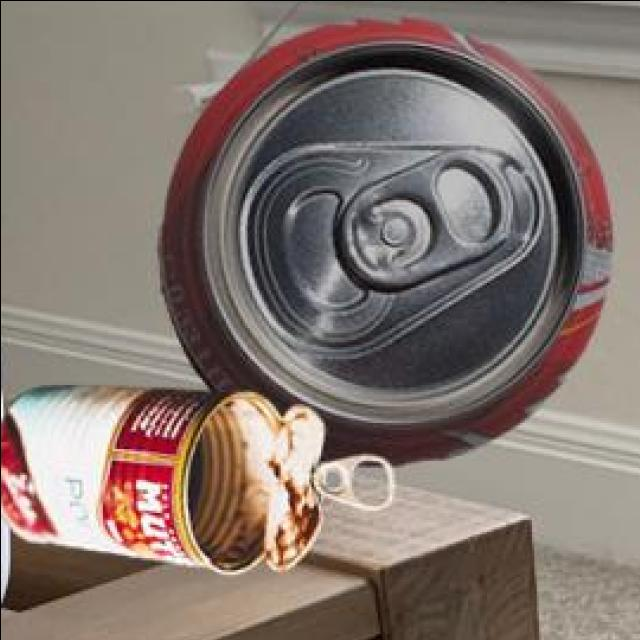logam: (155, 13, 608, 461), (0, 383, 390, 570)
